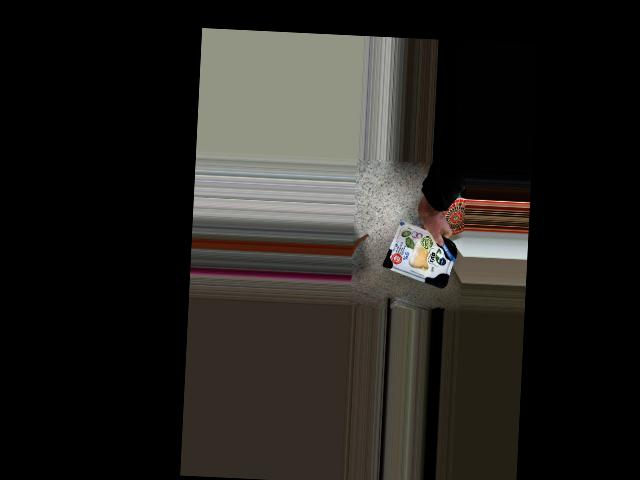cheese: (381, 222, 459, 289)
